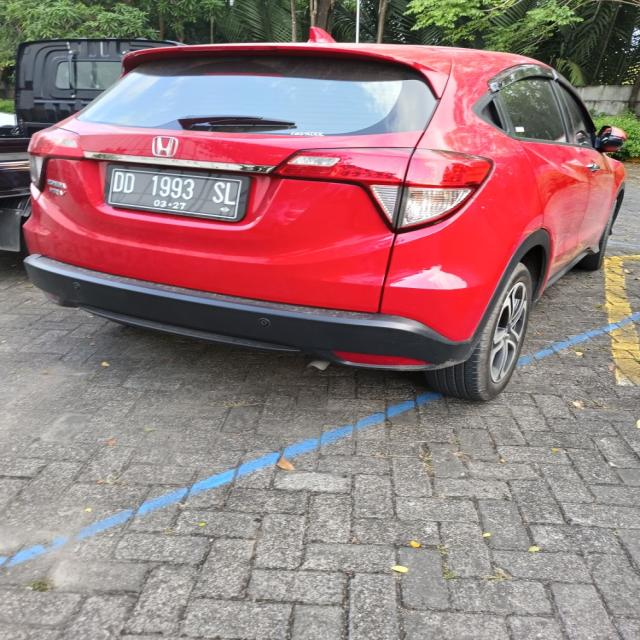plates: (109, 164, 241, 222)
